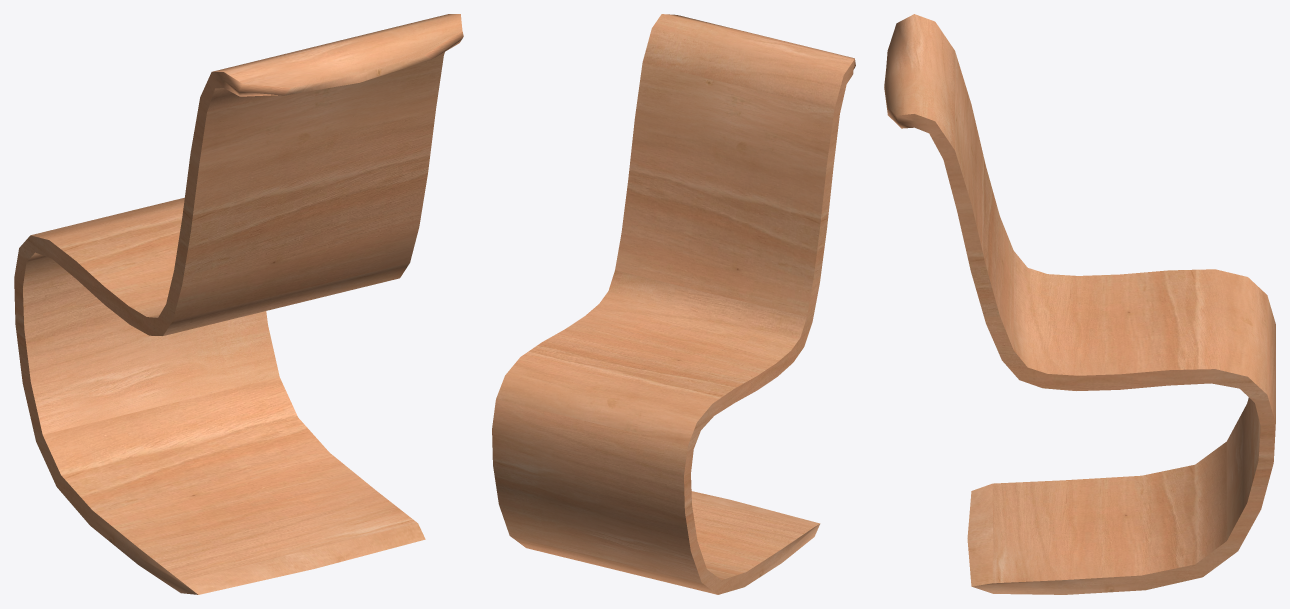
File: FUR0210022.fbx
3 renders of one model, left to right at view 1: azimuth 30°, elevation 25°; view 2: azimuth 150°, elevation 25°; view 3: azimuth 270°, elevation 25°, orthographic. The views are drawn at different scales.
Visible parts, largest first — view 1: smFUR0210022; view 2: smFUR0210022; view 3: smFUR0210022.
Boxes of the visible parts, left/top/right/bottom form: smFUR0210022: left=14, top=14, right=463, bottom=594; smFUR0210022: left=492, top=14, right=855, bottom=594; smFUR0210022: left=884, top=14, right=1275, bottom=594.
Size of the model in its own units: 50.84 by 113 by 83.41.
1 material, 1 textured.
